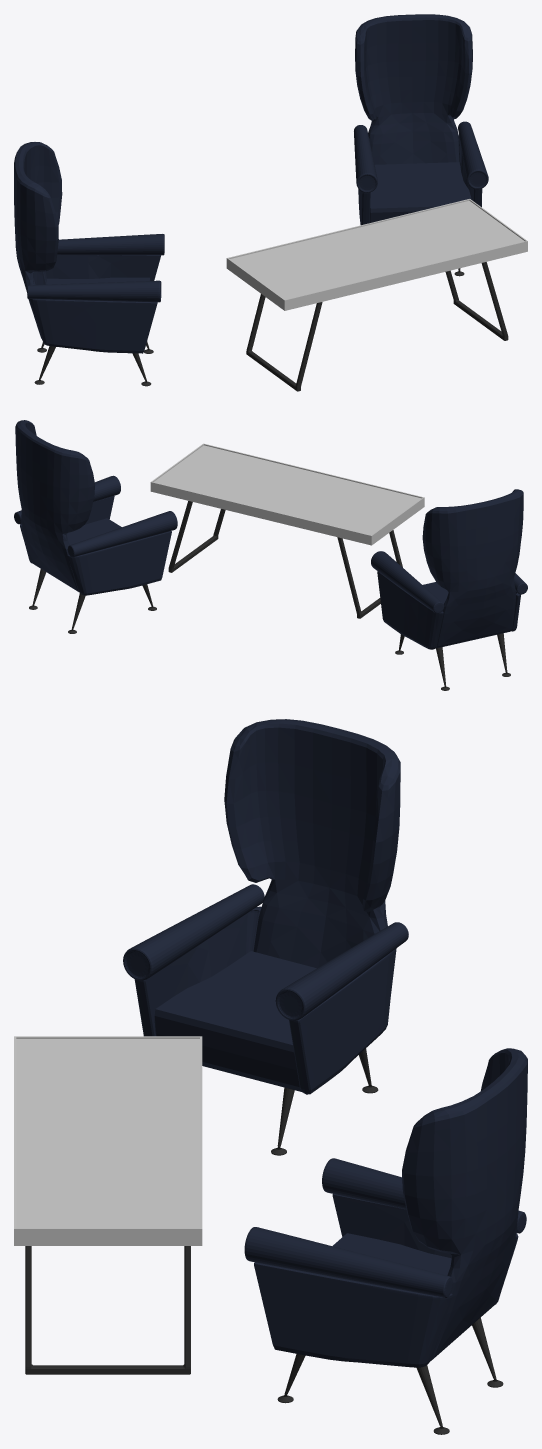
The model's file is armchair_and_table.obj.
3 views of the same model, one above another, from view 1: azimuth 30°, elevation 25°; view 2: azimuth 150°, elevation 25°; view 3: azimuth 270°, elevation 25° (orthographic). The views are drawn at different scales.
Visible parts, largest first — view 1: sillon_orejas_Cube.051, sillon_orejas.001_Cube.052, Cube.003_Cube.056, Cube.004_Cube.057, sillonrejas_pot.001_Tube.008; view 2: sillon_orejas.001_Cube.052, sillon_orejas_Cube.051, Cube.003_Cube.056, Cube.004_Cube.057, sillonrejas_pot.001_Tube.008, sillonrejas_pot_Tube.007; view 3: sillon_orejas.001_Cube.052, sillon_orejas_Cube.051, Cube.003_Cube.056, Cube.004_Cube.057, sillonrejas_pot_Tube.007, sillonrejas_pot.001_Tube.008.
Boxes of the visible parts, bbox=[...] form: sillon_orejas_Cube.051: bbox=[354, 14, 488, 225]; sillon_orejas.001_Cube.052: bbox=[14, 142, 164, 353]; Cube.003_Cube.056: bbox=[226, 199, 527, 310]; Cube.004_Cube.057: bbox=[246, 262, 508, 391]; sillonrejas_pot.001_Tube.008: bbox=[34, 341, 153, 386]; sillon_orejas.001_Cube.052: bbox=[371, 489, 527, 649]; sillon_orejas_Cube.051: bbox=[14, 420, 177, 595]; Cube.003_Cube.056: bbox=[150, 443, 424, 545]; Cube.004_Cube.057: bbox=[168, 501, 402, 618]; sillonrejas_pot.001_Tube.008: bbox=[395, 633, 510, 690]; sillonrejas_pot_Tube.007: bbox=[29, 569, 156, 633]; sillon_orejas.001_Cube.052: bbox=[123, 719, 408, 1094]; sillon_orejas_Cube.051: bbox=[244, 1048, 527, 1367]; Cube.003_Cube.056: bbox=[14, 1036, 202, 1245]; Cube.004_Cube.057: bbox=[25, 1246, 190, 1374]; sillonrejas_pot_Tube.007: bbox=[277, 1317, 503, 1434]; sillonrejas_pot.001_Tube.008: bbox=[271, 1048, 378, 1155].
Bounding box in the file's own units: 2.57 × 1 × 1.4.
